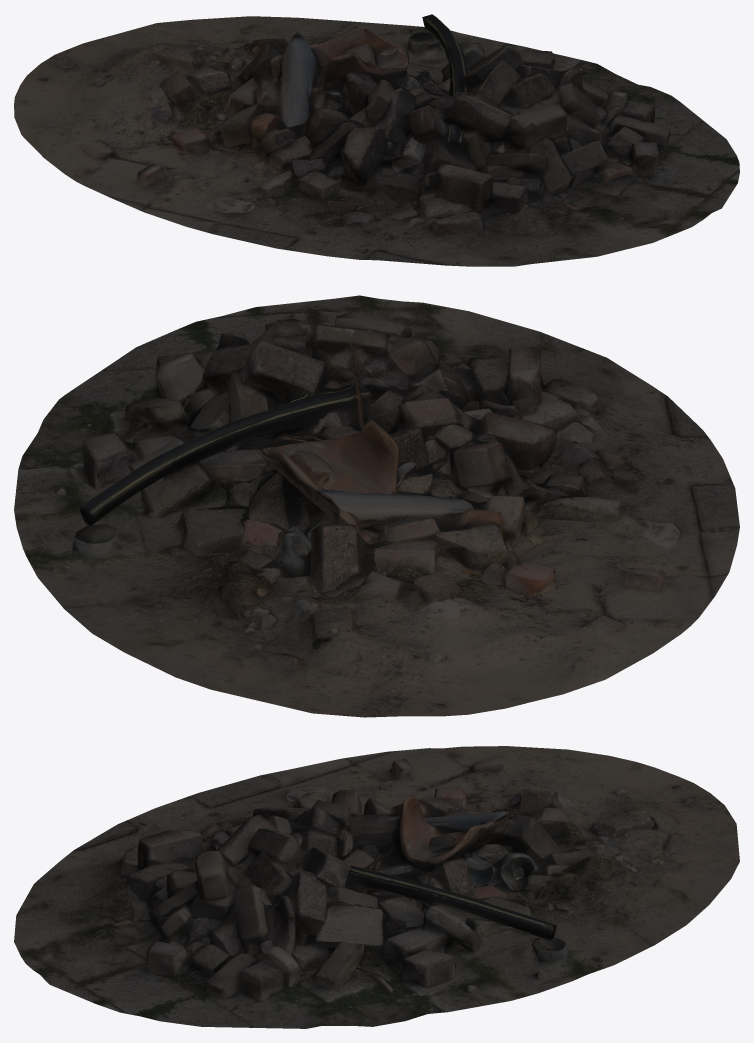
The model's file is fractured_bricks.glb.
The picture shows the model from 3 angles, top to bottom: view 1: azimuth 30°, elevation 25°; view 2: azimuth 150°, elevation 25°; view 3: azimuth 270°, elevation 25°; orthographic projection. The views are drawn at different scales.
Parts seen in each view (by area): view 1: fractured_bricks; view 2: fractured_bricks; view 3: fractured_bricks.
Part boxes in pixels (box(x1,y1,x2,y2)): fractured_bricks: box(14, 14, 739, 266); fractured_bricks: box(14, 295, 739, 717); fractured_bricks: box(14, 746, 739, 1028).
Bounding box in the file's own units: 2.8 × 0.4809 × 3.1.
1 material, 1 textured.
